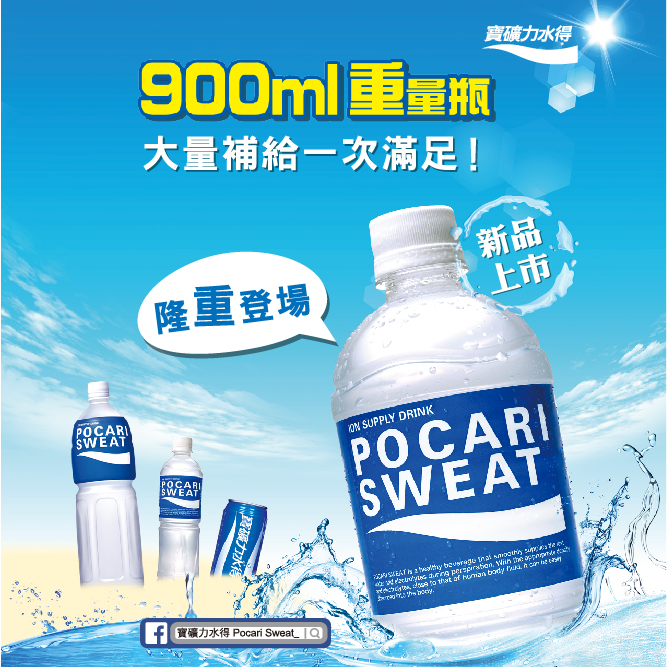POCARI SWEAT: (323, 208, 586, 619), (71, 378, 147, 587), (156, 432, 203, 578)
